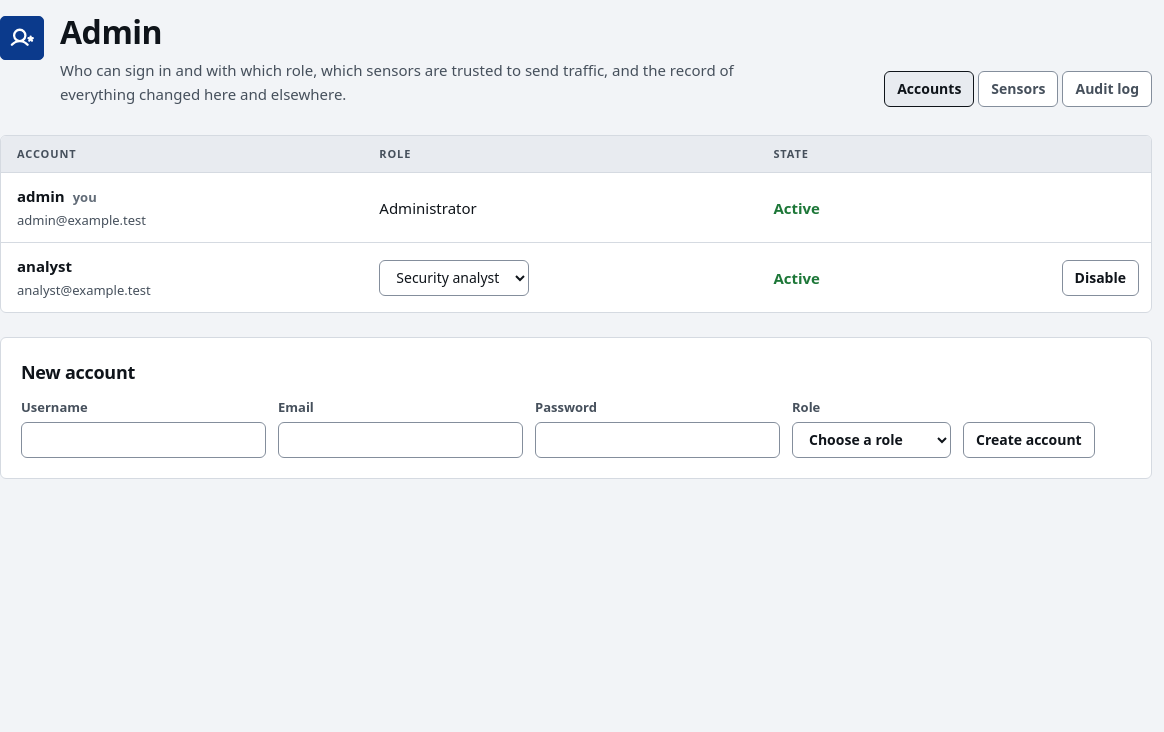
Test: AdminPage › creates an account and shows the refusal the API gives
Check: the row with test id "account-1" is shown, box 1,243 -> 1151,312
Type "analyst" into the field labelled "Username" at (144, 440), box 21,422 -> 266,458
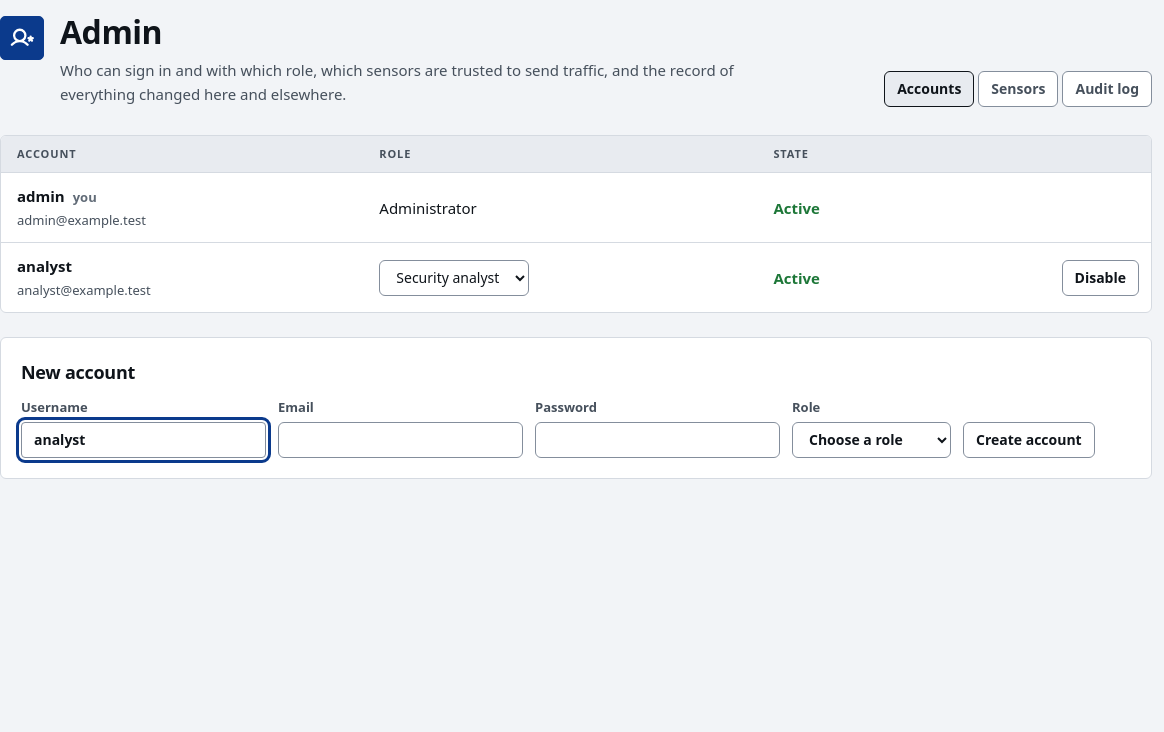
Type "a@b.c" into the field labelled "Email" at (400, 440), box 278,422 -> 523,458
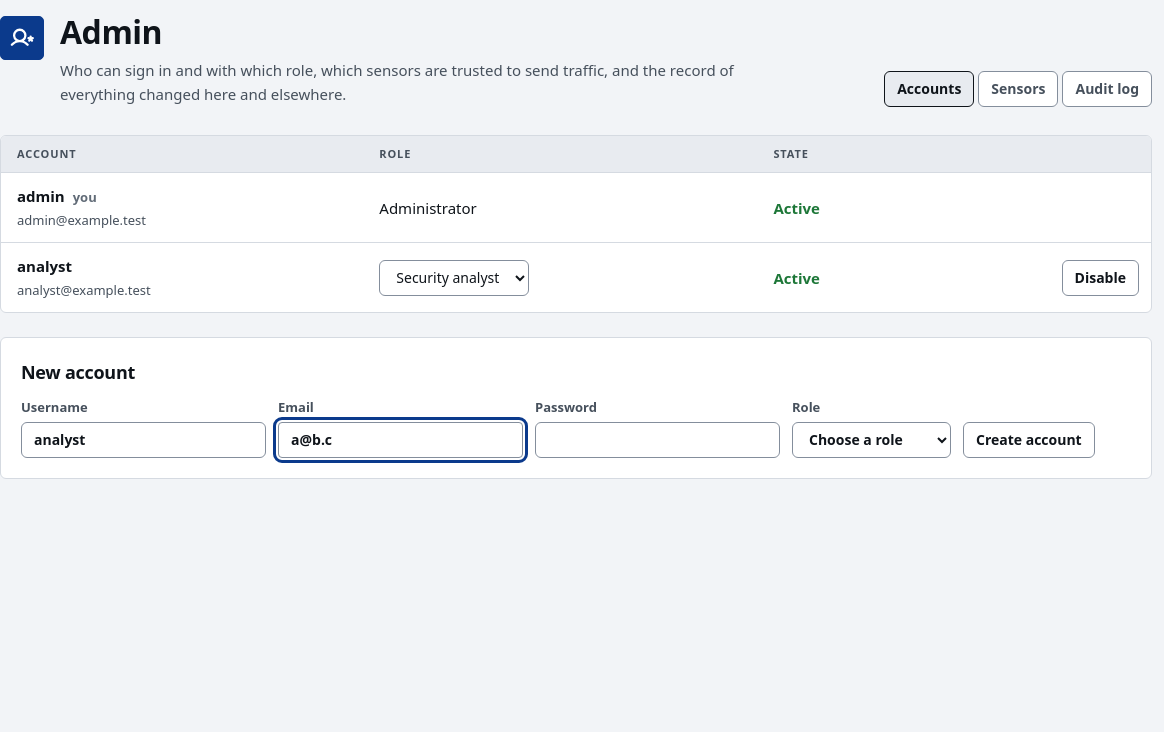
Type "pw" into the password field labelled "Password" at (658, 440), box 535,422 -> 780,458
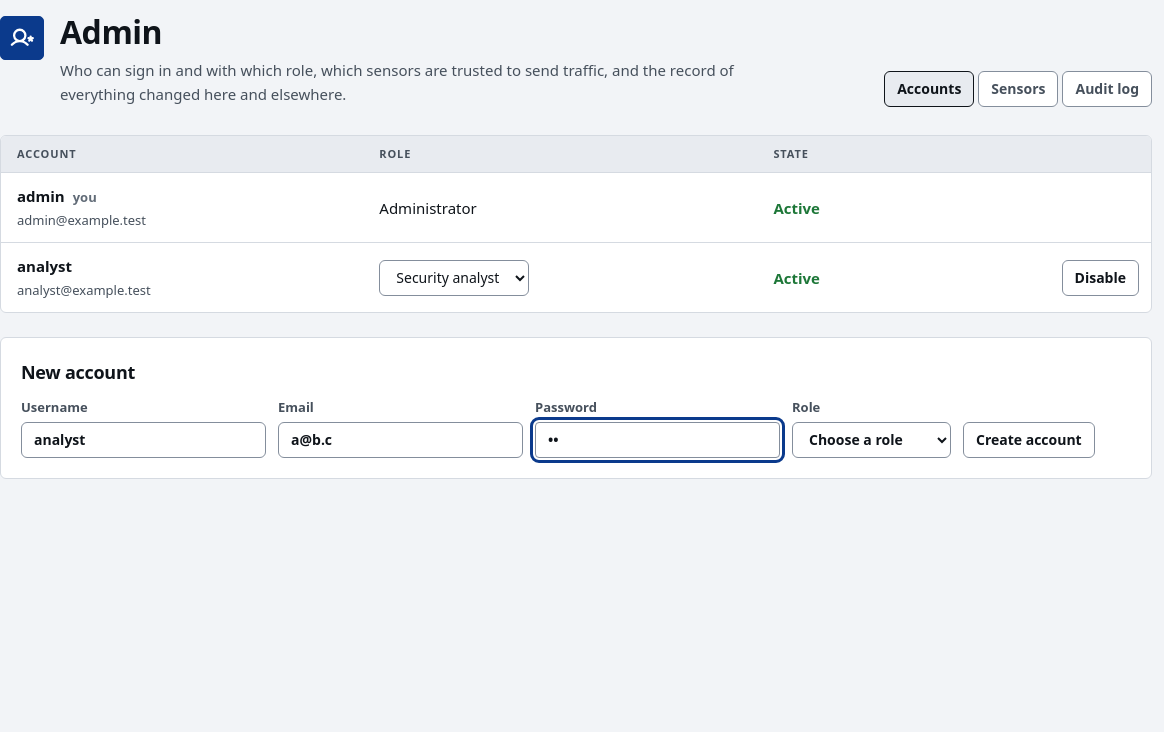
Select "Viewer" in the dropdown labelled "Role" at (872, 440), box 792,422 -> 951,458
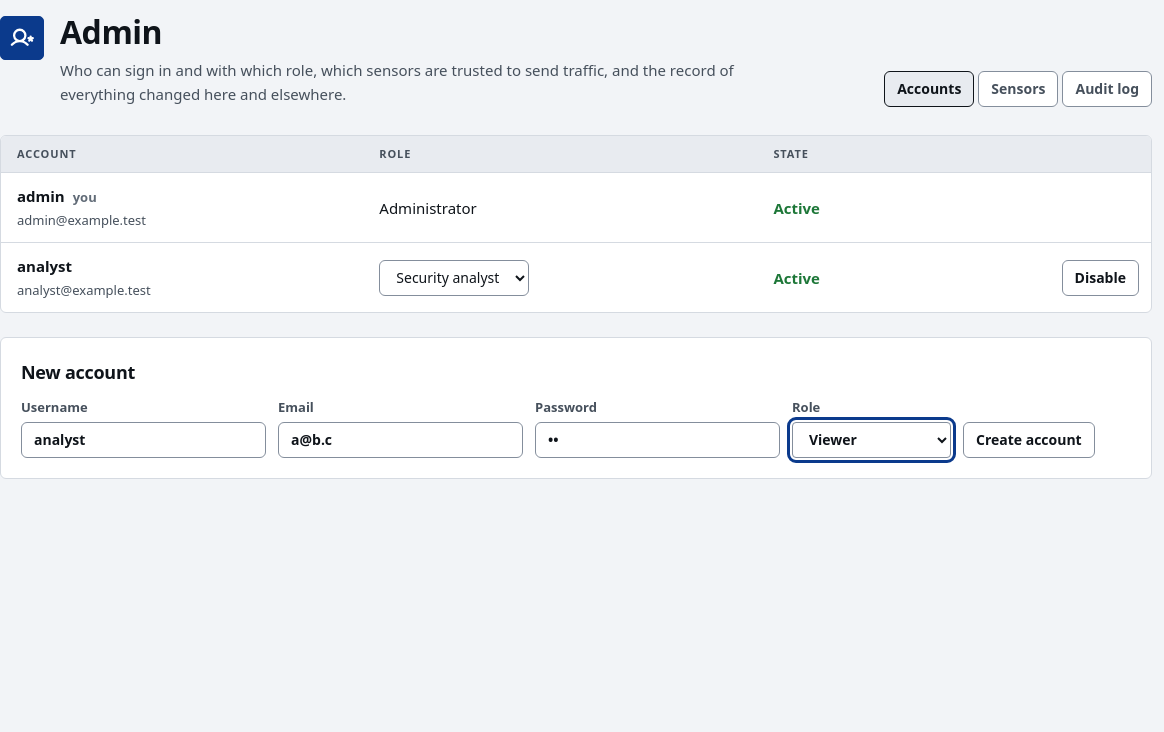
Click the button "Create account" at (1029, 440), box 963,422 -> 1095,458
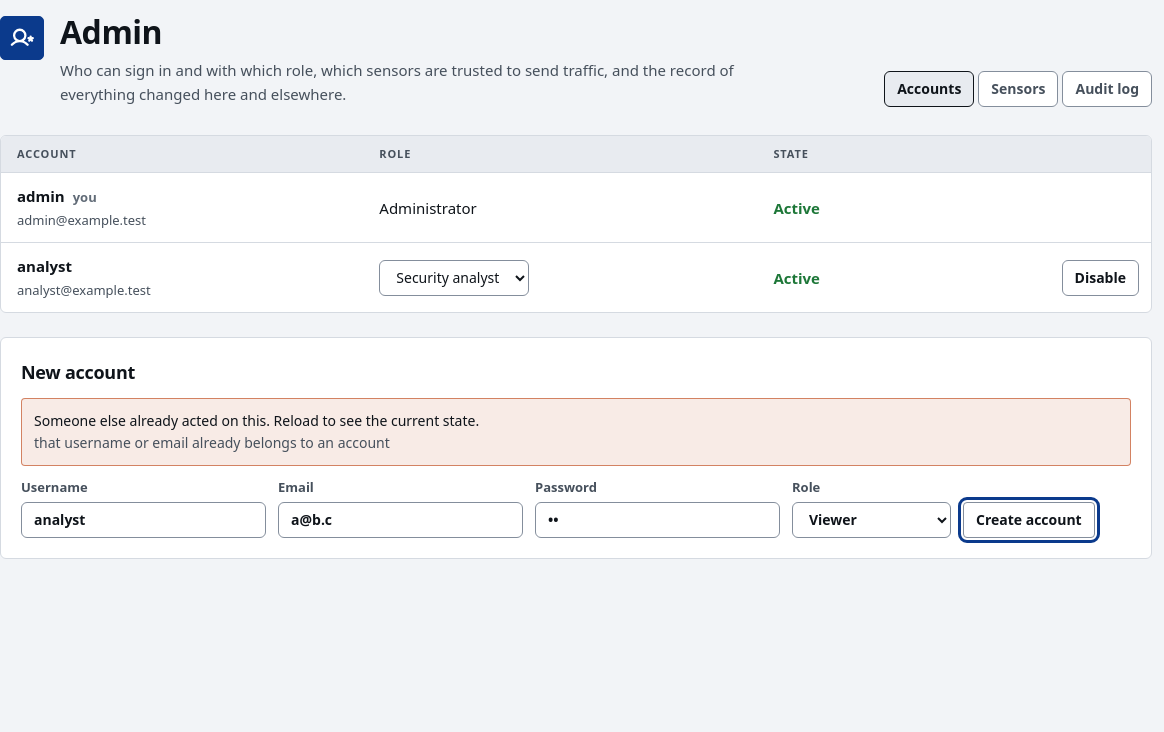
Check: the text "that username or email already belongs to an account" is shown, box 34,433 -> 390,452
